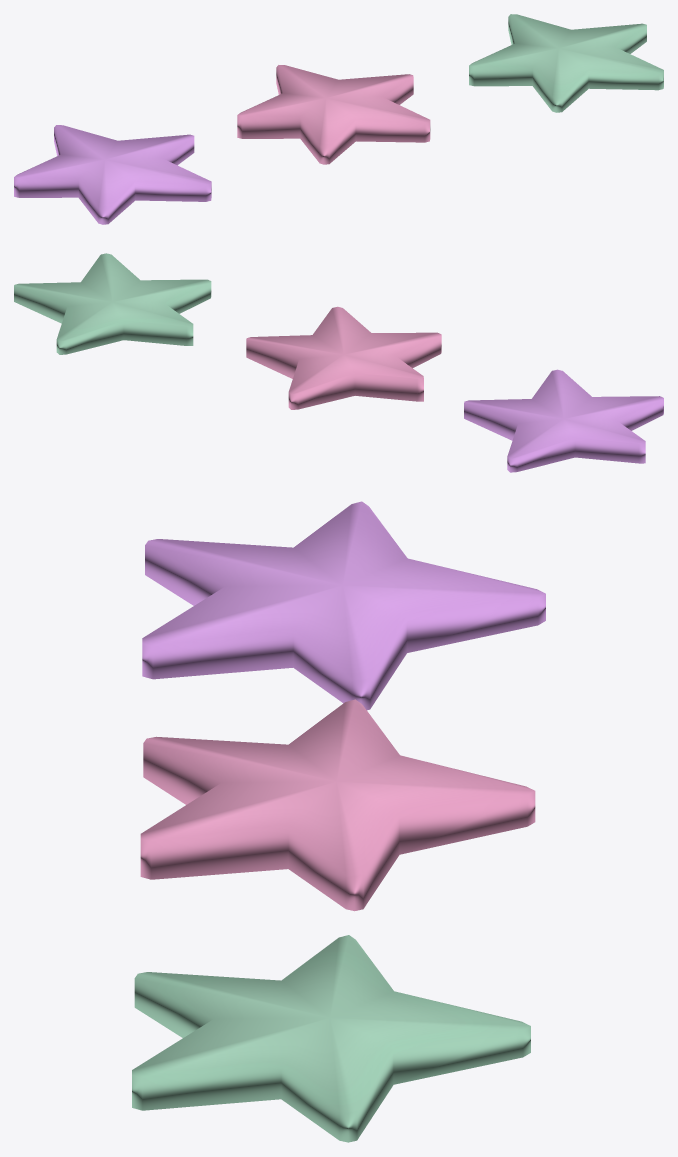
The model's file is Stars_Toppings.fbx.
3 renders of one model, top to bottom at view 1: azimuth 30°, elevation 25°; view 2: azimuth 150°, elevation 25°; view 3: azimuth 270°, elevation 25°, orthographic. The views are drawn at different scales.
Visible parts, largest first — view 1: starPINK, starPURPLE, starMINT; view 2: starPINK, starPURPLE, starMINT; view 3: starPINK, starPURPLE, starMINT.
Part boxes in pixels (x1,y1,x2,y2): starPINK: (237,65,430,164); starPURPLE: (14,125,211,224); starMINT: (469,14,663,112); starPINK: (246,306,441,409); starPURPLE: (464,369,663,472); starMINT: (14,253,211,354); starPINK: (140,699,535,911); starPURPLE: (142,501,545,710); starMINT: (132,935,530,1142).
Bounding box in the file's own units: 0.6345 × 0.0277 × 0.1808.
